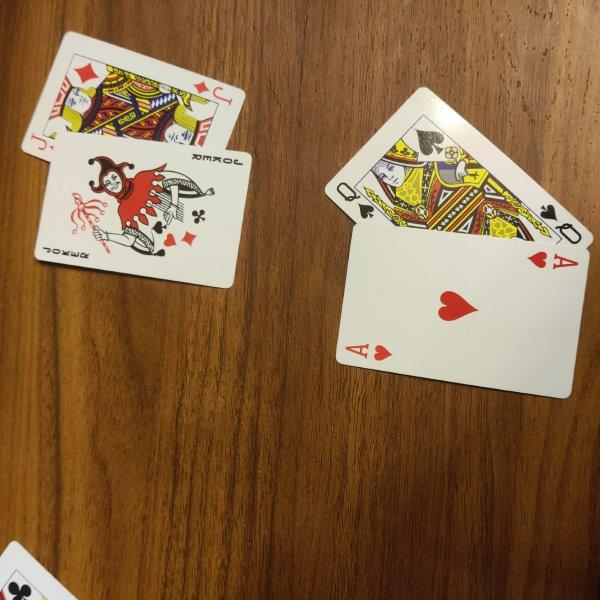Ace of Hearts: (335, 223, 590, 401)
Jack of Diamonds: (21, 30, 245, 165)
Joker: (33, 131, 253, 290)
Queen of Spades: (324, 87, 595, 250)
